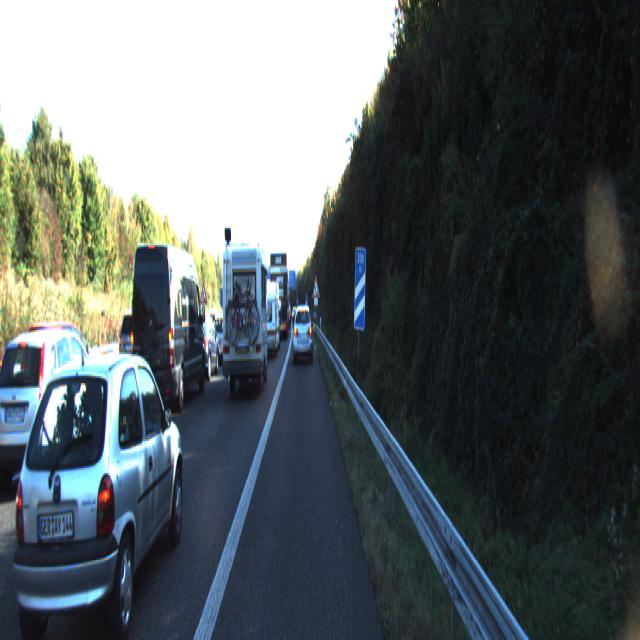Car: (7, 342, 186, 638), (0, 323, 111, 497), (130, 238, 206, 420), (15, 318, 101, 428), (222, 245, 270, 398), (116, 308, 160, 380), (183, 310, 219, 380), (254, 278, 280, 359), (270, 249, 289, 337), (292, 301, 312, 361)
